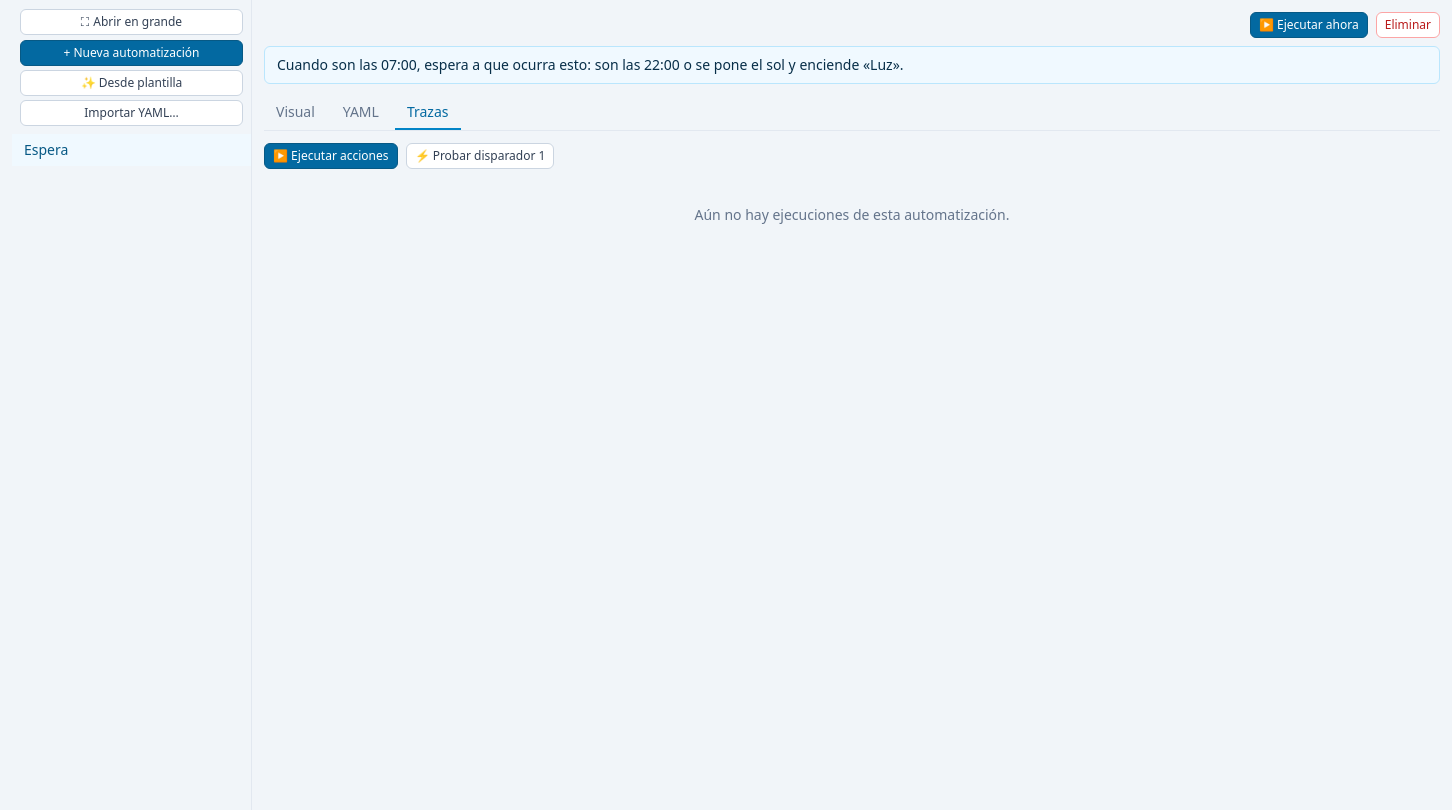
Test: Trazas de wait_for_trigger › muestra «Esperando hasta las 22:00 o al atardecer»
Click the button "▶ Ejecutar acciones": (331, 156) [264,143,398,169]
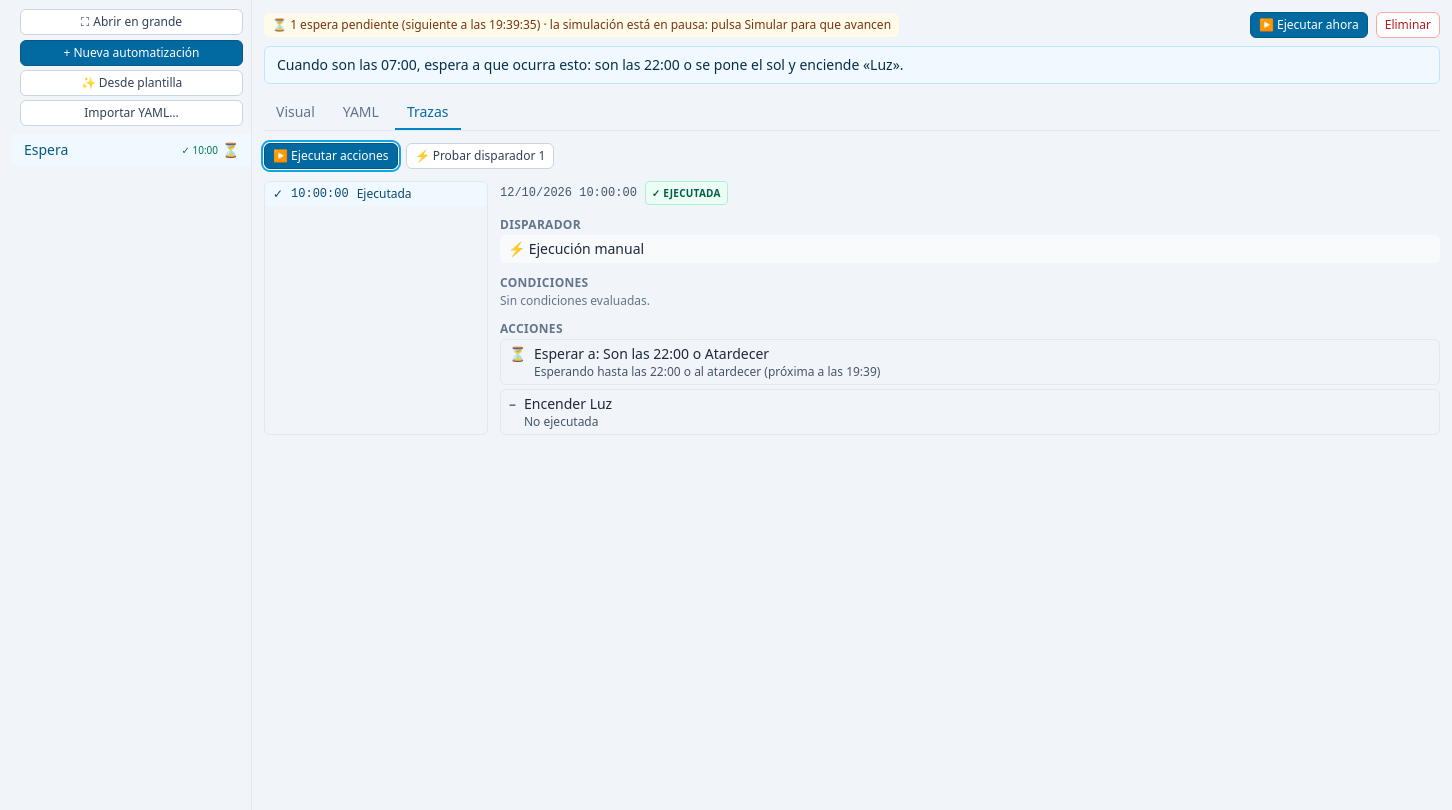
Result: the element named "Detalle de la traza" shows "Esperando hasta las 22:00 o al atardecer" at [534,363,880,380]
